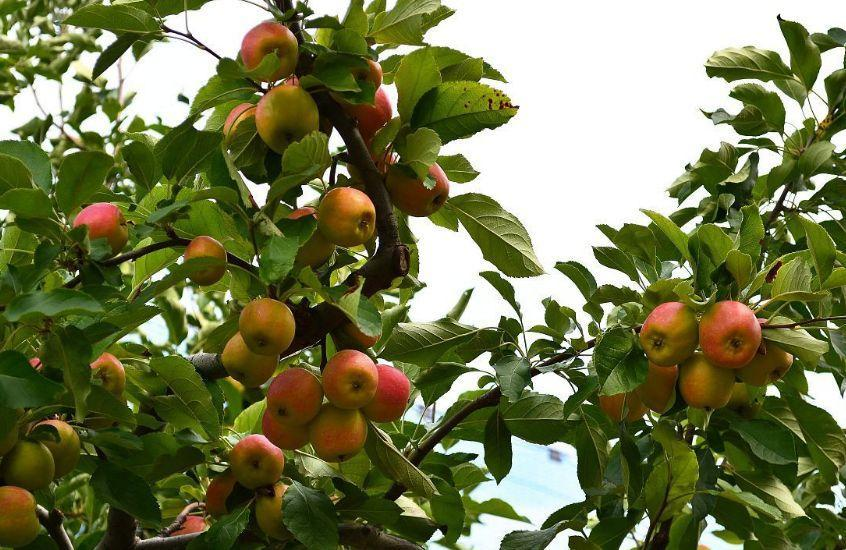apple: (253, 84, 319, 155), (697, 299, 761, 366), (227, 307, 288, 374), (315, 185, 375, 248), (639, 302, 697, 366), (308, 401, 369, 460), (385, 160, 448, 217), (237, 20, 297, 79), (320, 348, 378, 409), (220, 325, 278, 384), (24, 419, 79, 479), (676, 353, 734, 409), (227, 433, 283, 490), (268, 370, 322, 428), (240, 296, 294, 351), (70, 202, 127, 252), (363, 363, 410, 422), (1, 436, 52, 490), (180, 233, 225, 286), (1, 485, 37, 547), (348, 91, 394, 139), (87, 352, 125, 397), (205, 469, 242, 514), (181, 235, 225, 261)
